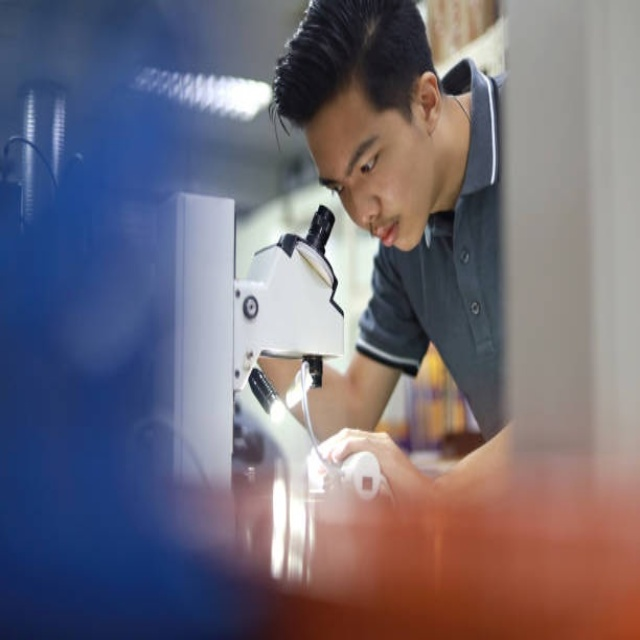Sin_gafas: (319, 124, 385, 201)
Sin_guantes: (313, 427, 423, 512)
Sin_mascara: (369, 209, 419, 262)
